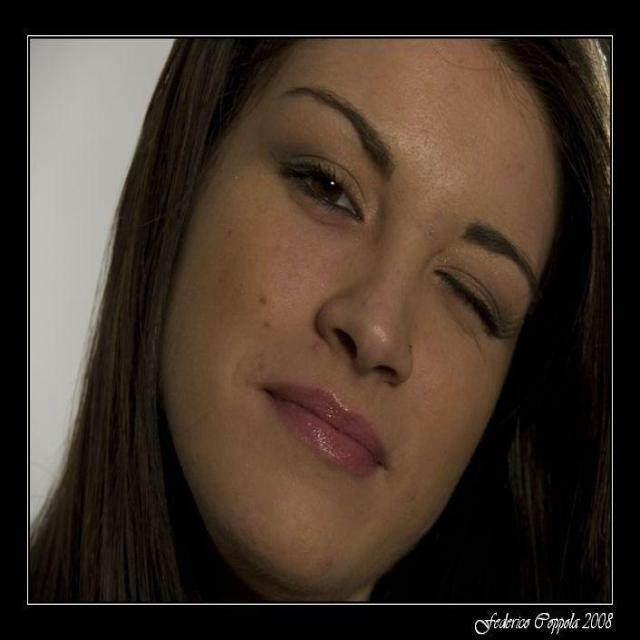no-glass: (286, 156, 506, 327)
